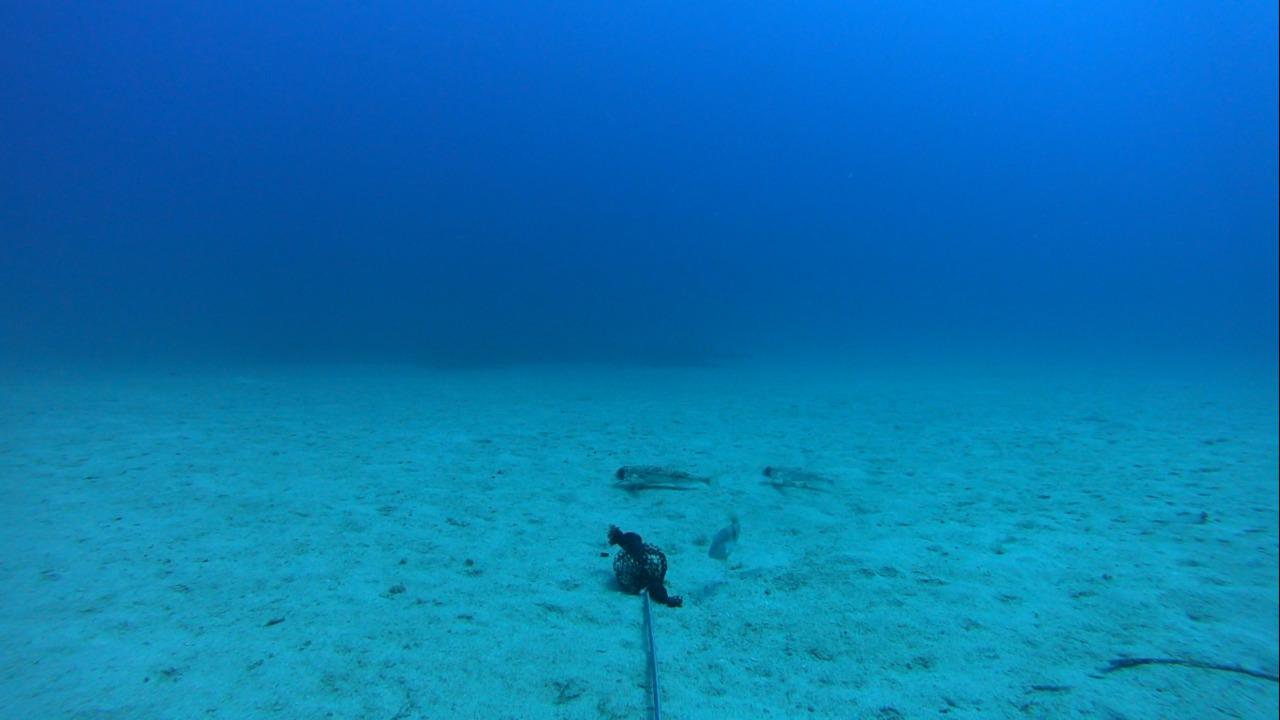dactylopterus: (601, 460, 723, 497), (738, 461, 852, 495)
raor: (703, 511, 748, 561)
